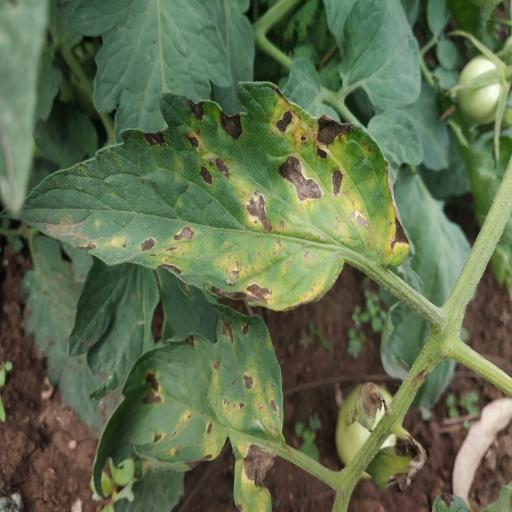Early Blight: (28, 79, 394, 307), (93, 307, 285, 502)
